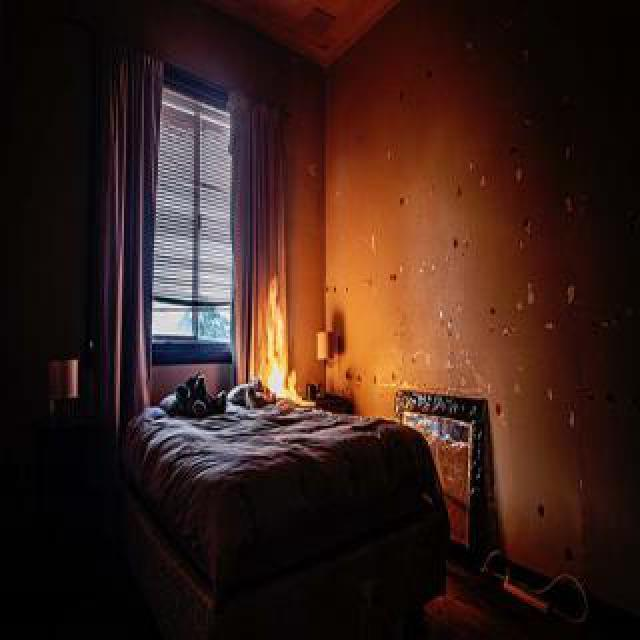Fire: (260, 284, 296, 400)
